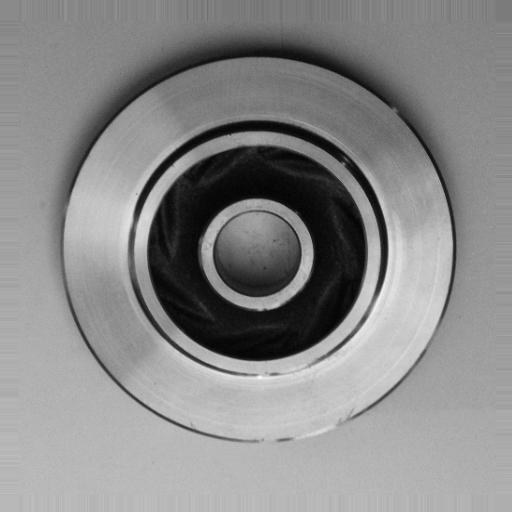scratch: (240, 401, 363, 467), (240, 350, 329, 387)
unpolished_casting: (59, 51, 458, 449)
